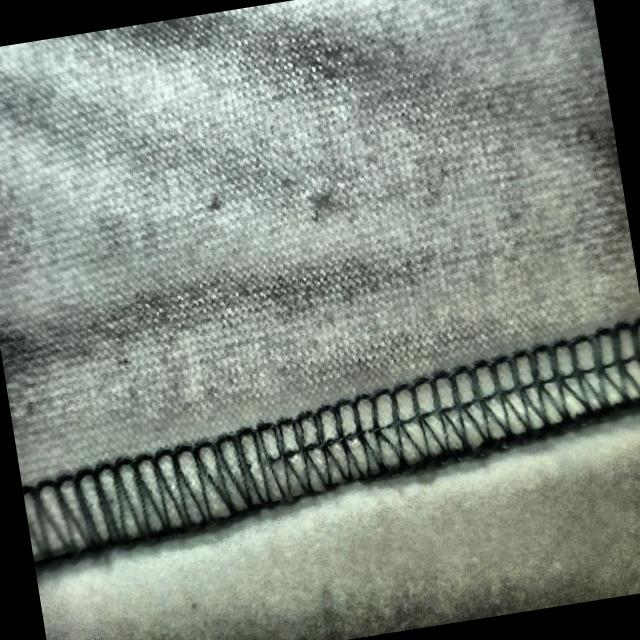gray stitch: (92, 370, 466, 552)
